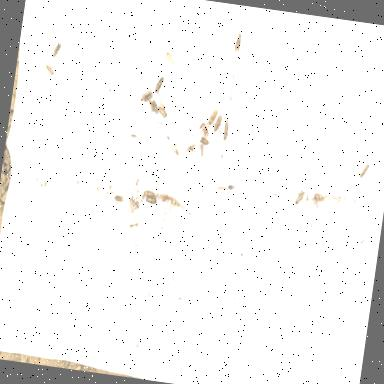pbw: (208, 106, 219, 126), (51, 40, 62, 59), (154, 74, 164, 93), (358, 162, 369, 178), (294, 190, 306, 204), (234, 32, 242, 52), (140, 88, 151, 102), (157, 104, 168, 118), (164, 50, 175, 64), (200, 122, 210, 136), (214, 115, 222, 131), (127, 198, 135, 212), (43, 64, 54, 74), (146, 100, 156, 111), (222, 121, 228, 139), (313, 192, 325, 201), (144, 91, 153, 102), (198, 136, 210, 144), (145, 196, 157, 204), (143, 188, 155, 196), (198, 142, 204, 156), (113, 194, 123, 202), (312, 198, 320, 208)
